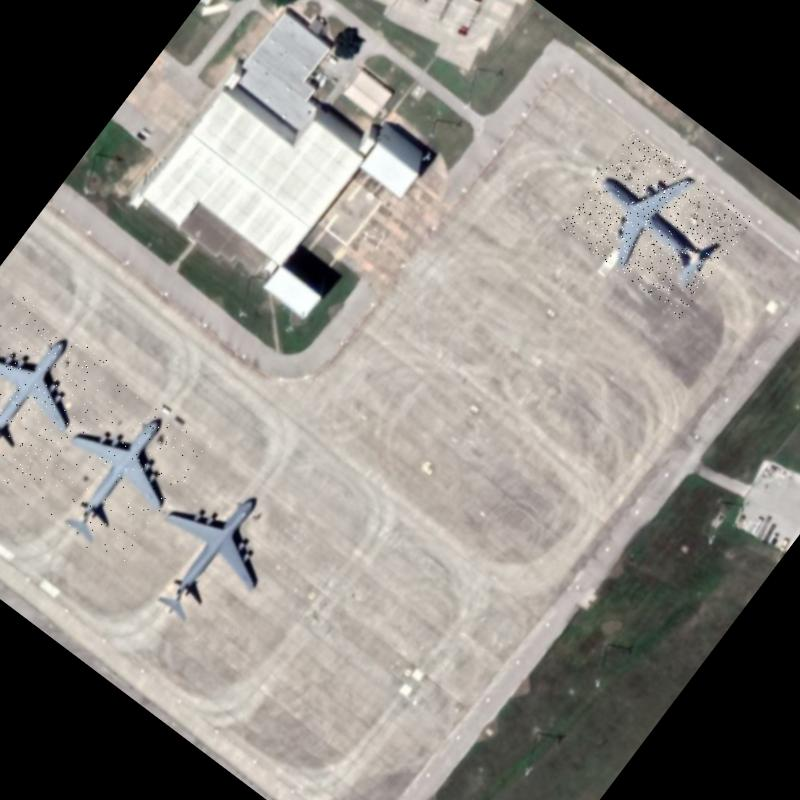A4: (21, 373, 212, 572), (560, 130, 754, 318), (118, 456, 306, 650), (0, 293, 119, 495)
